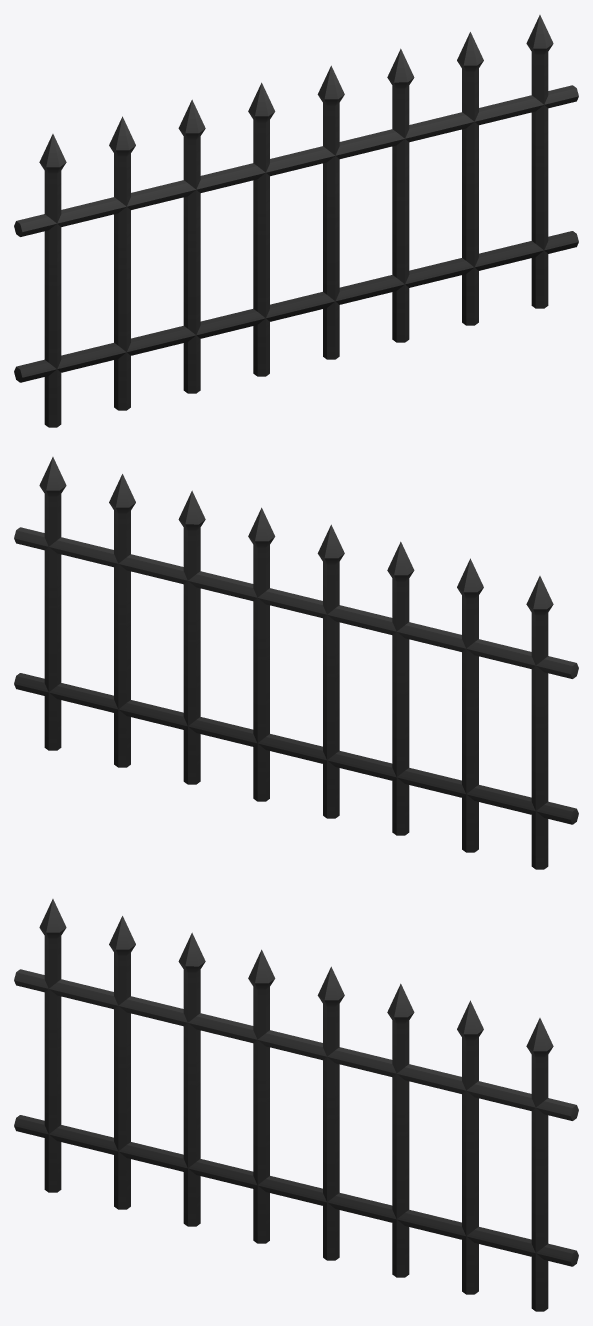
The model's file is kaykit-halloween-bits-fence-seperate.glb.
3 renders of one model, top to bottom at view 1: azimuth 30°, elevation 25°; view 2: azimuth 150°, elevation 25°; view 3: azimuth 330°, elevation 25°, orthographic.
Parts seen in each view (by area): view 1: fence_seperate; view 2: fence_seperate; view 3: fence_seperate.
Part boxes in pixels (x1,y1,x2,y2): fence_seperate: (14, 15, 578, 427); fence_seperate: (14, 457, 578, 869); fence_seperate: (14, 899, 578, 1311).
Bounding box in the file's own units: 4 × 2 × 0.1694.
1 material, 1 textured.
